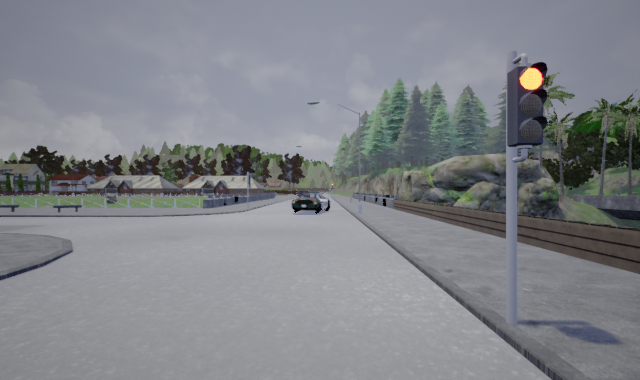vehicle: (289, 191, 333, 214)
